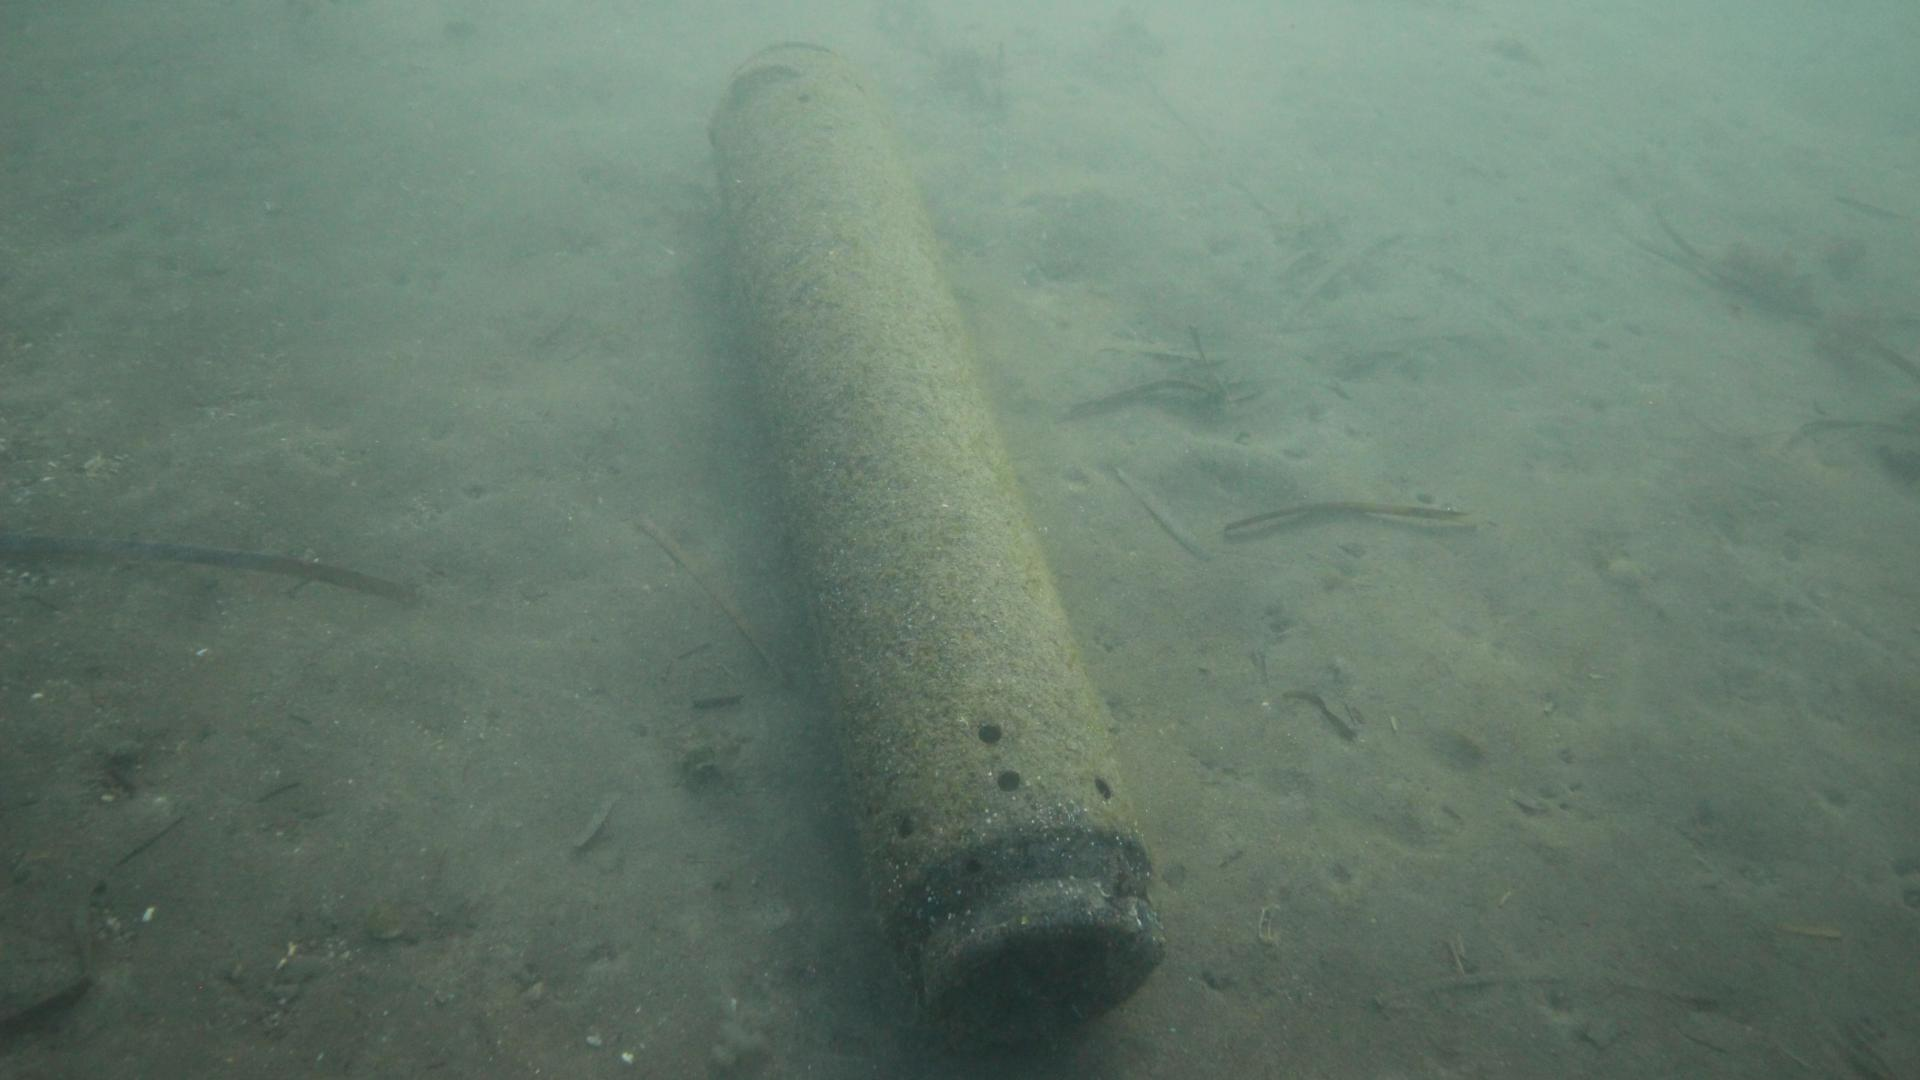eel fish trap: (704, 42, 1163, 1051)
